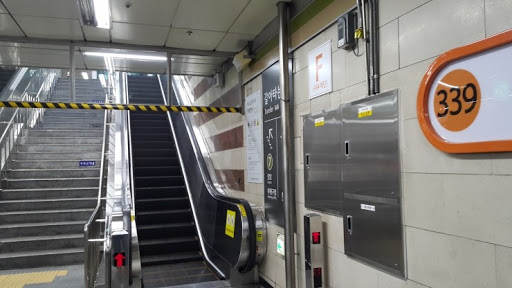escalator: (78, 190, 270, 288)
